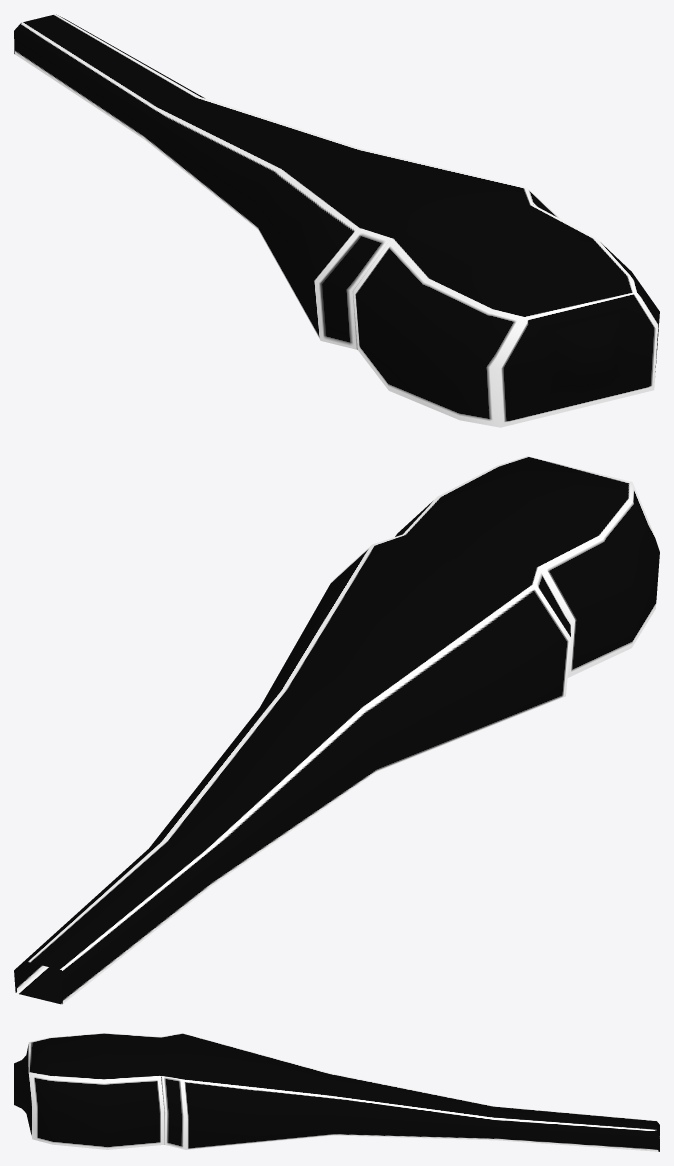
Rendered from spoon.glb.
3 views of the same model, one above another, from view 1: azimuth 30°, elevation 25°; view 2: azimuth 150°, elevation 25°; view 3: azimuth 270°, elevation 25° (orthographic). The views are drawn at different scales.
Parts seen in each view (by area): view 1: Cube.001; view 2: Cube.001; view 3: Cube.001.
Part boxes in pixels (x1,y1,x2,y2): Cube.001: (14, 14, 659, 427); Cube.001: (14, 456, 659, 1004); Cube.001: (14, 1033, 659, 1151).
Bounding box in the file's own units: 0.3993 × 0.2281 × 1.57.
Materials: 1 (1 with a texture image).
